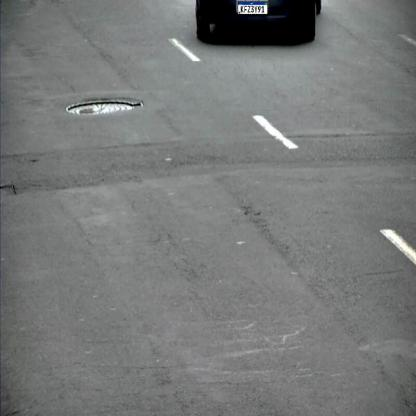PlacaM: (238, 2, 268, 14)
